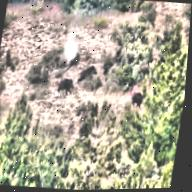boar: (52, 70, 79, 99), (126, 86, 149, 109), (77, 64, 97, 83)
